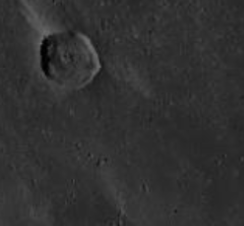crater: (2, 5, 174, 152)
